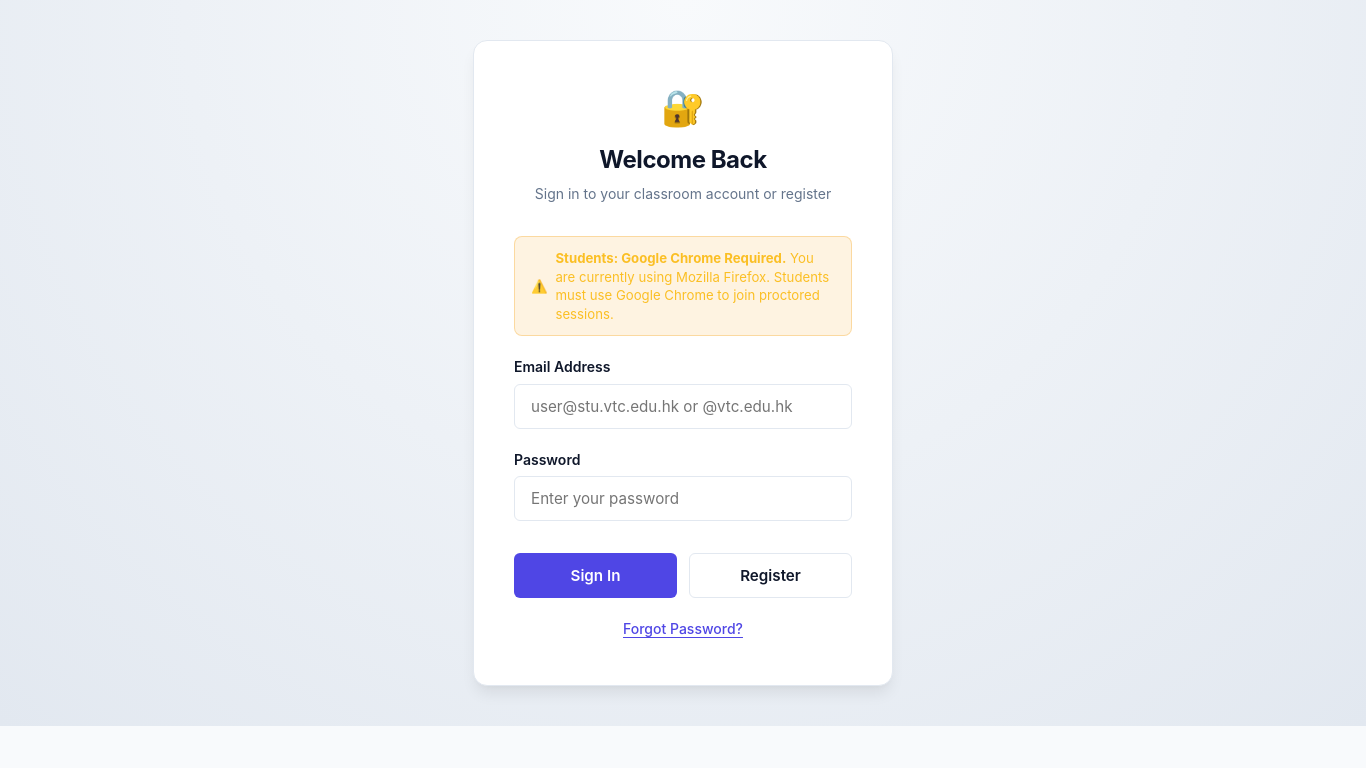
it: AuthComponent Component › blocks student login on non-Chrome browser with clear error message
The width and height of the screenshot is (1366, 768).
Type "student1@stu.vtc.edu.hk" into the field labelled "Email Address" at (683, 406), box [514,384,852,429]
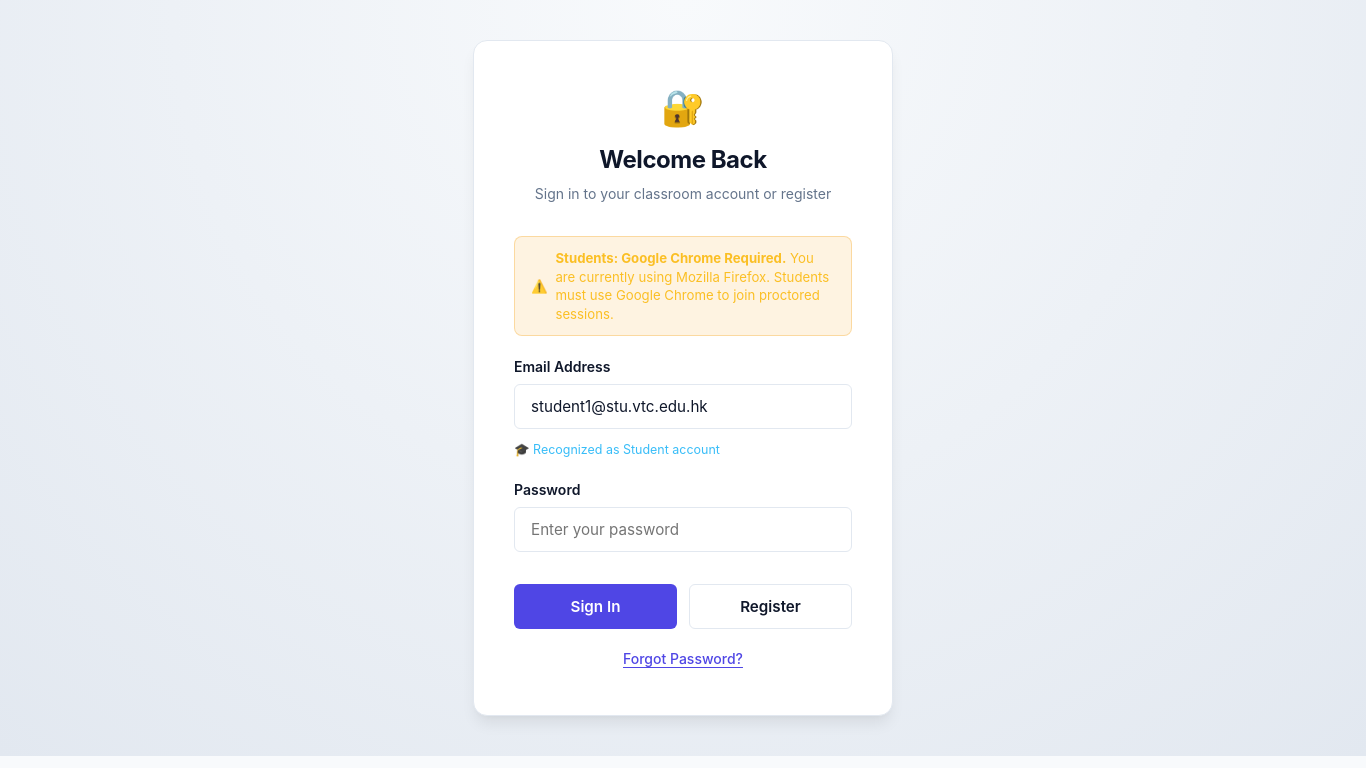
Type "password123" into the password field labelled "Password" at (683, 529), box [514,507,852,552]
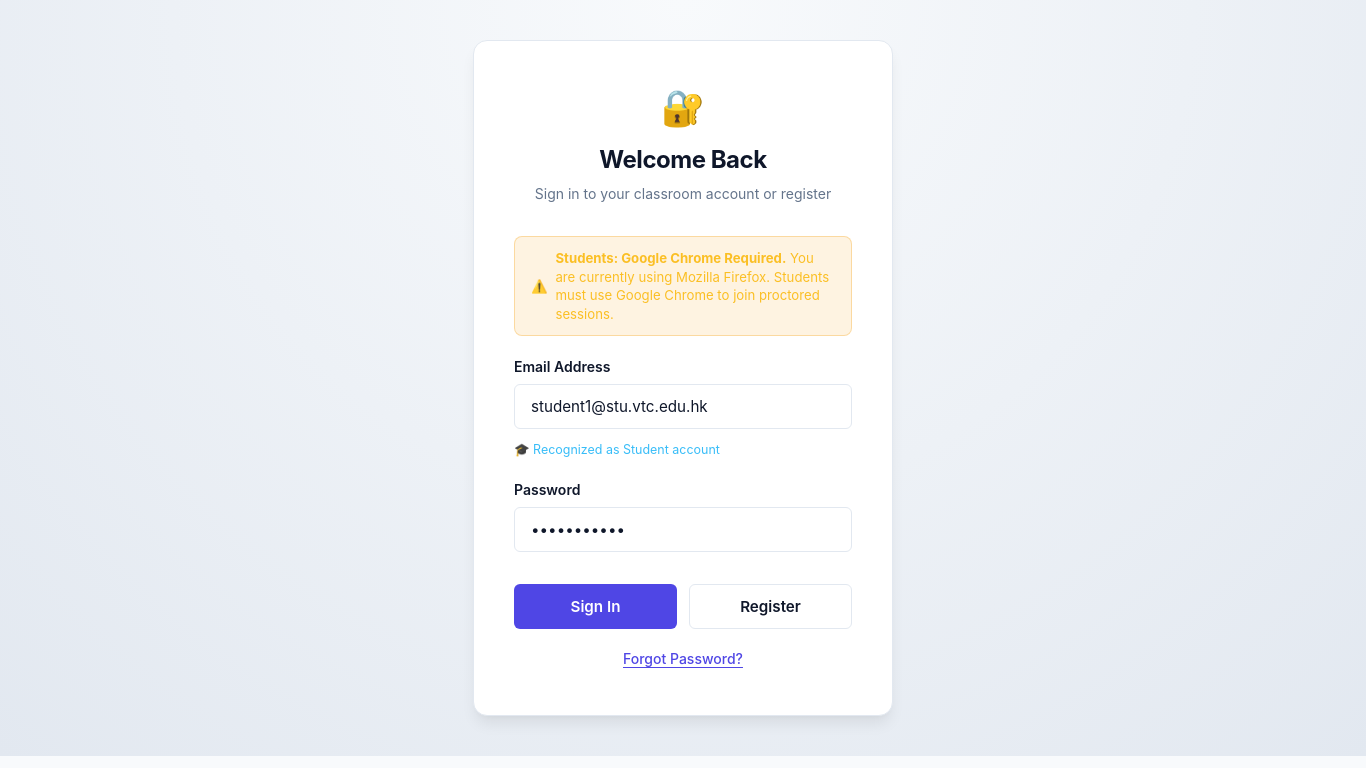
Click the button "Sign In" at (596, 606), box [514,584,677,629]
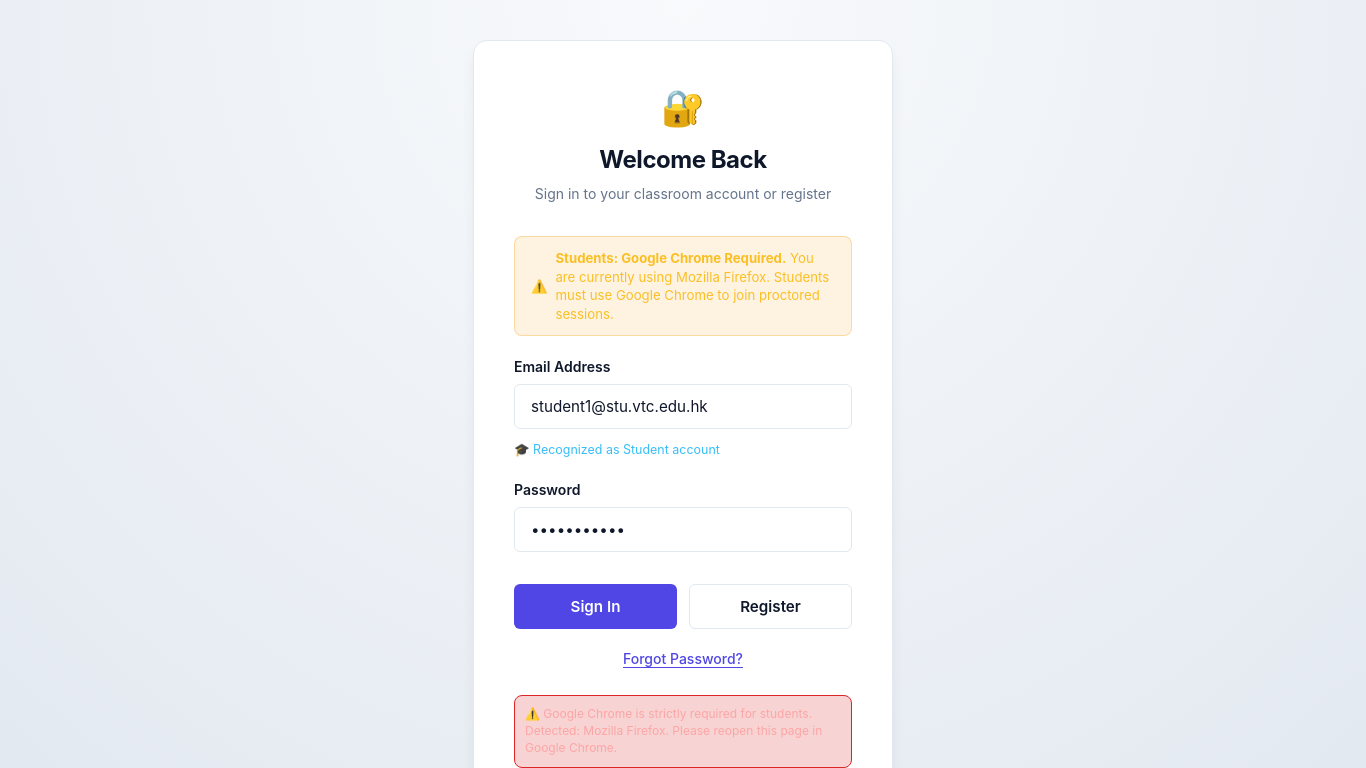
Expected: the text "Google Chrome is strictly required for students" is shown, [525,706,822,755]
